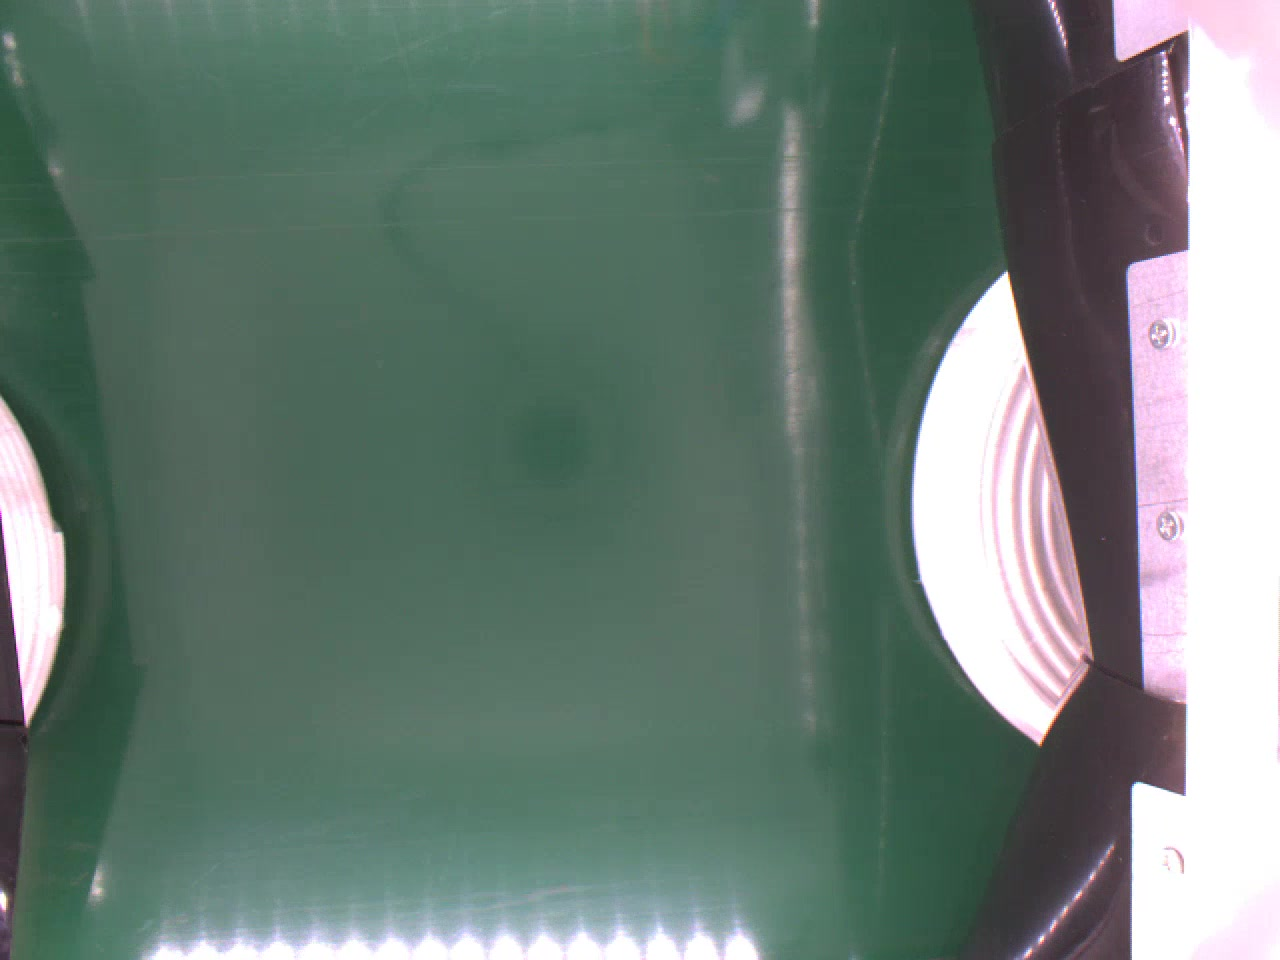white: (907, 265, 1090, 747)
